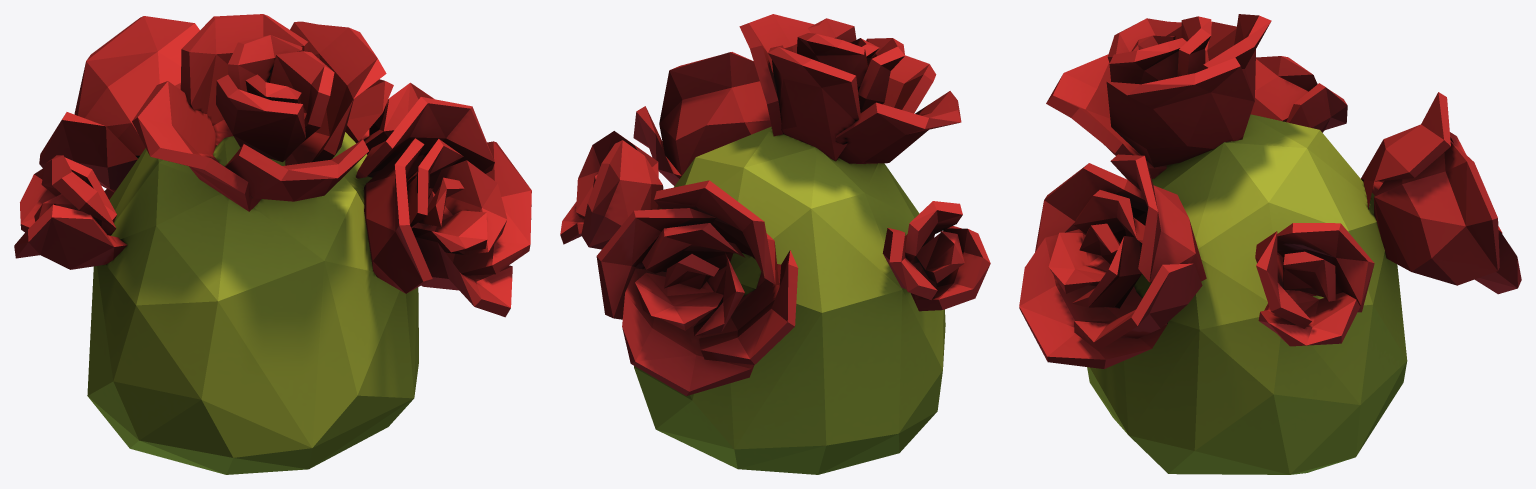
The model's file is rose2.glb.
3 renders of one model, left to right at view 1: azimuth 30°, elevation 25°; view 2: azimuth 150°, elevation 25°; view 3: azimuth 270°, elevation 25°, orthographic. The views are drawn at different scales.
Visible parts, largest first — view 1: Rose_Bush; view 2: Rose_Bush; view 3: Rose_Bush.
Boxes of the visible parts, x1,y1,x2,y2 form: Rose_Bush: [14, 14, 531, 474]; Rose_Bush: [560, 14, 990, 474]; Rose_Bush: [1019, 14, 1521, 474].
Bounding box in the file's own units: 1.81 × 1.6 × 1.81.
1 material, 1 textured.
